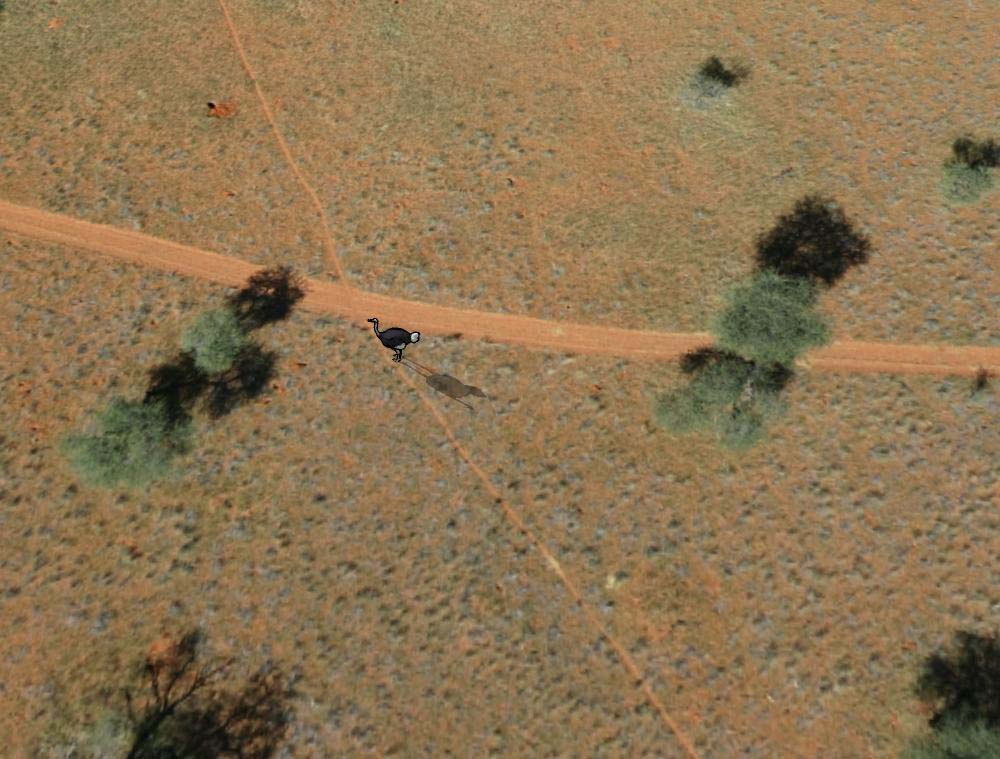springbok: (368, 313, 422, 365)
